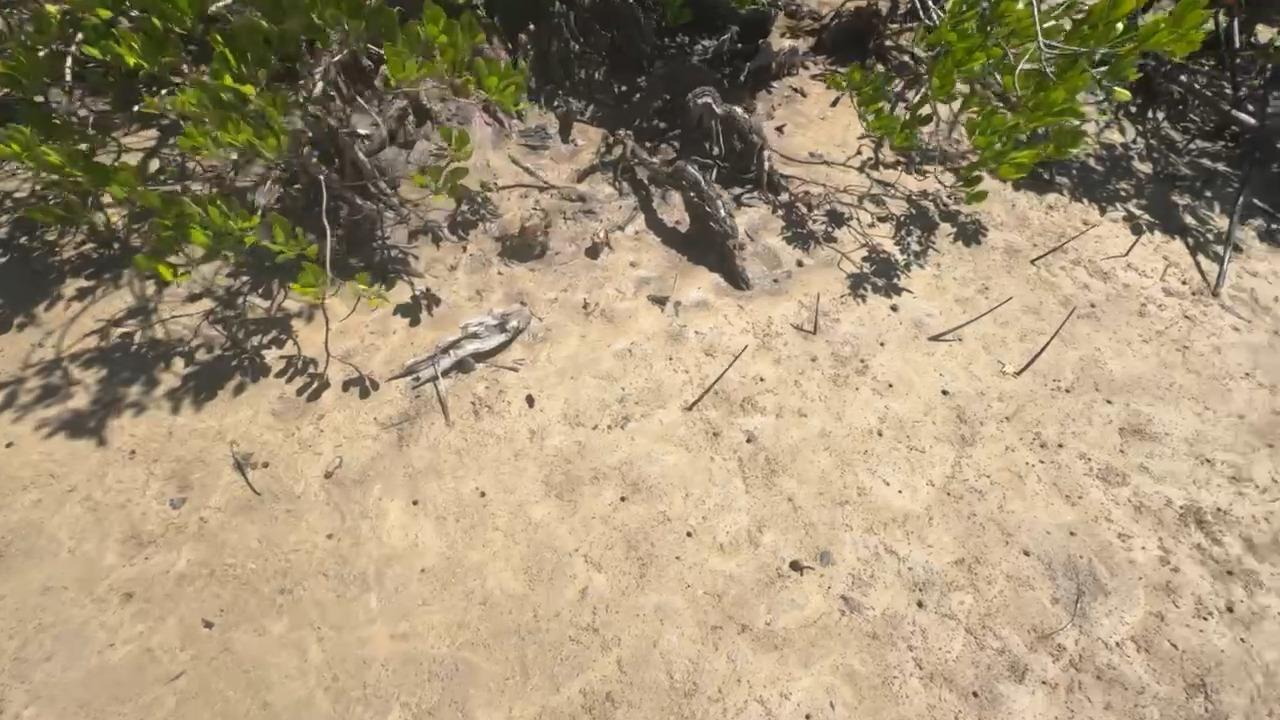Tree: (1016, 306, 1078, 377), (688, 344, 750, 408), (928, 296, 1013, 342), (1031, 225, 1097, 264), (1125, 228, 1148, 256), (229, 444, 252, 468), (814, 293, 820, 334)
